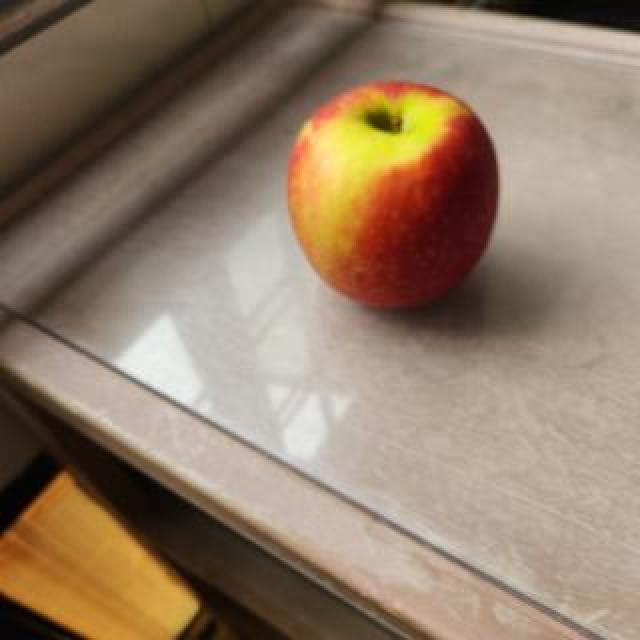Fresh Apple: (275, 73, 507, 322)
